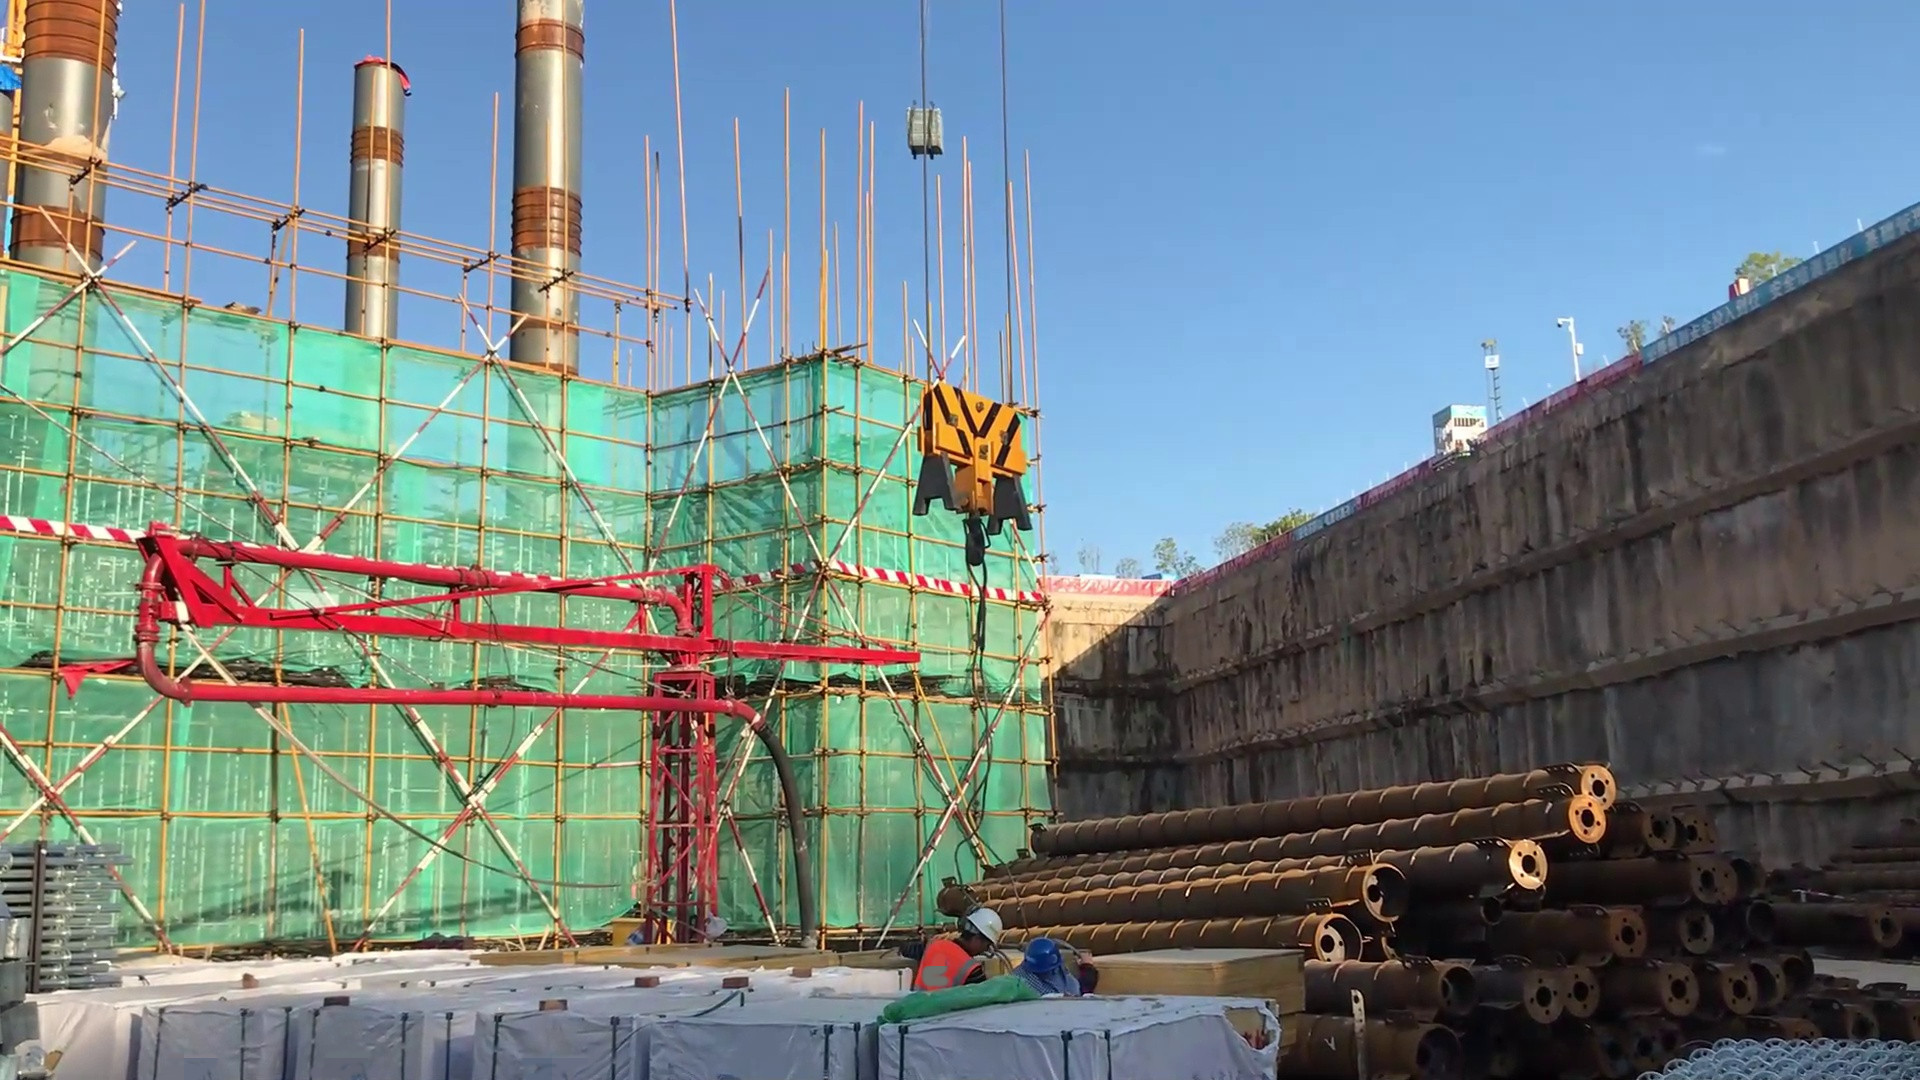board: (1066, 941, 1306, 1020)
ebox: (608, 917, 694, 957)
helmet: (1025, 930, 1079, 1004), (948, 902, 1008, 963)
hook: (904, 362, 1041, 577)
person: (904, 901, 1004, 1011), (1019, 937, 1106, 1008)
scaffold: (1, 832, 130, 1008)
slogan: (1652, 202, 1920, 367), (1287, 501, 1355, 546)
vest: (913, 932, 990, 1004)
